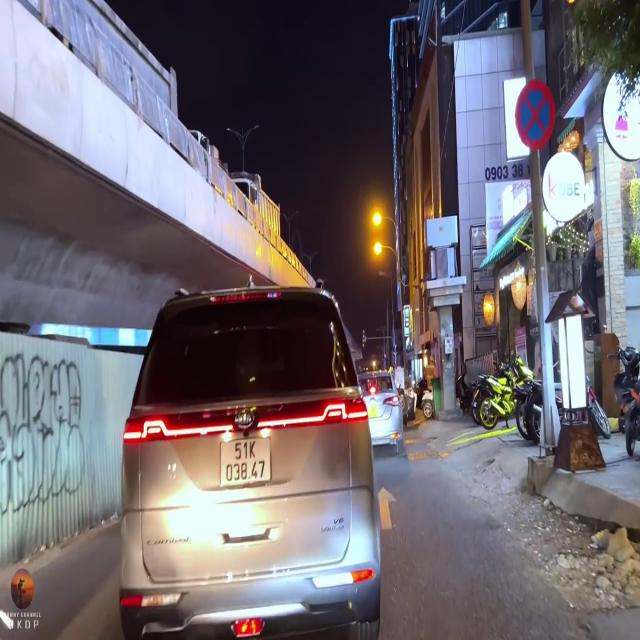bien_trang: (219, 434, 275, 491)
